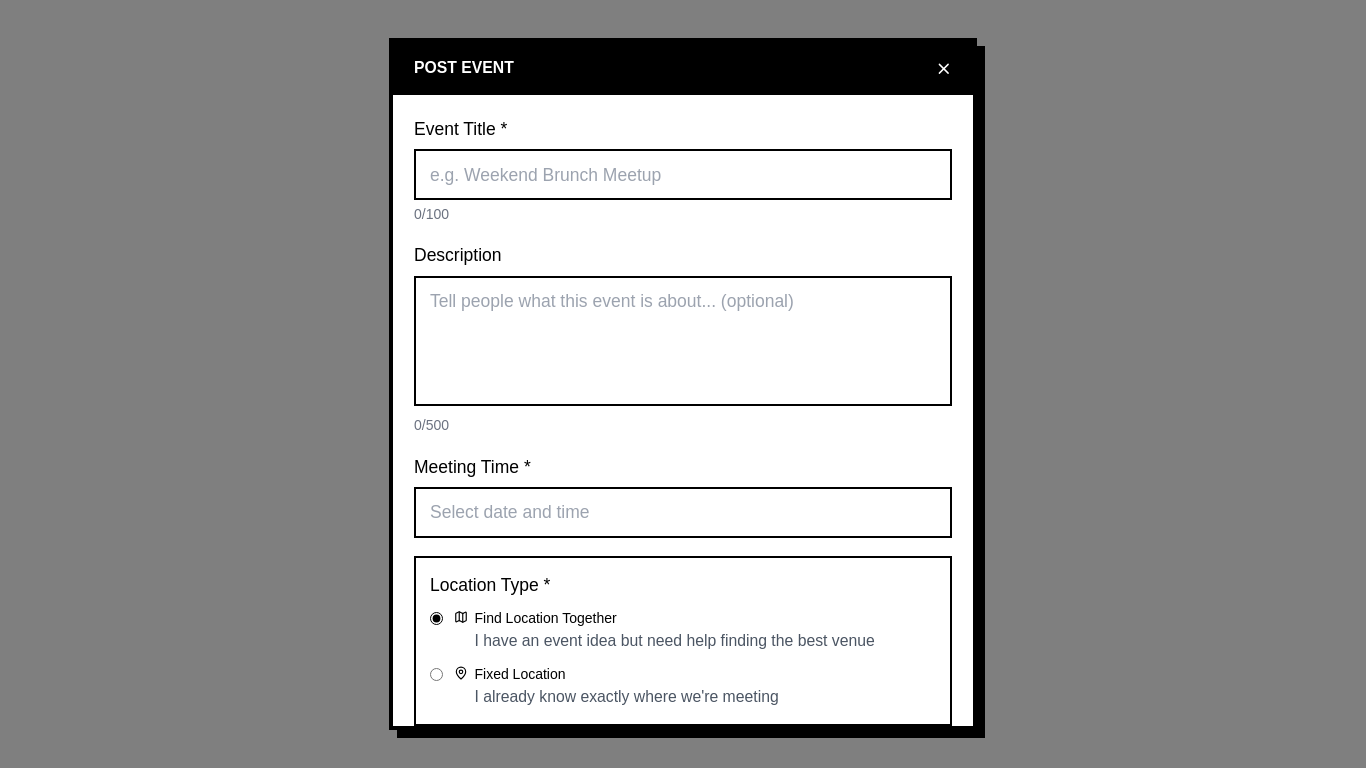
Test: PostEventModal › Form Validation › should disable submit button when meeting time is missing
The image size is (1366, 768).
Type "Test Event" into the field with placeholder "e.g. Weekend Brunch Meetup".
click(683, 175); type("Test Event")  # box [414,149,952,200]
(page scrolled)
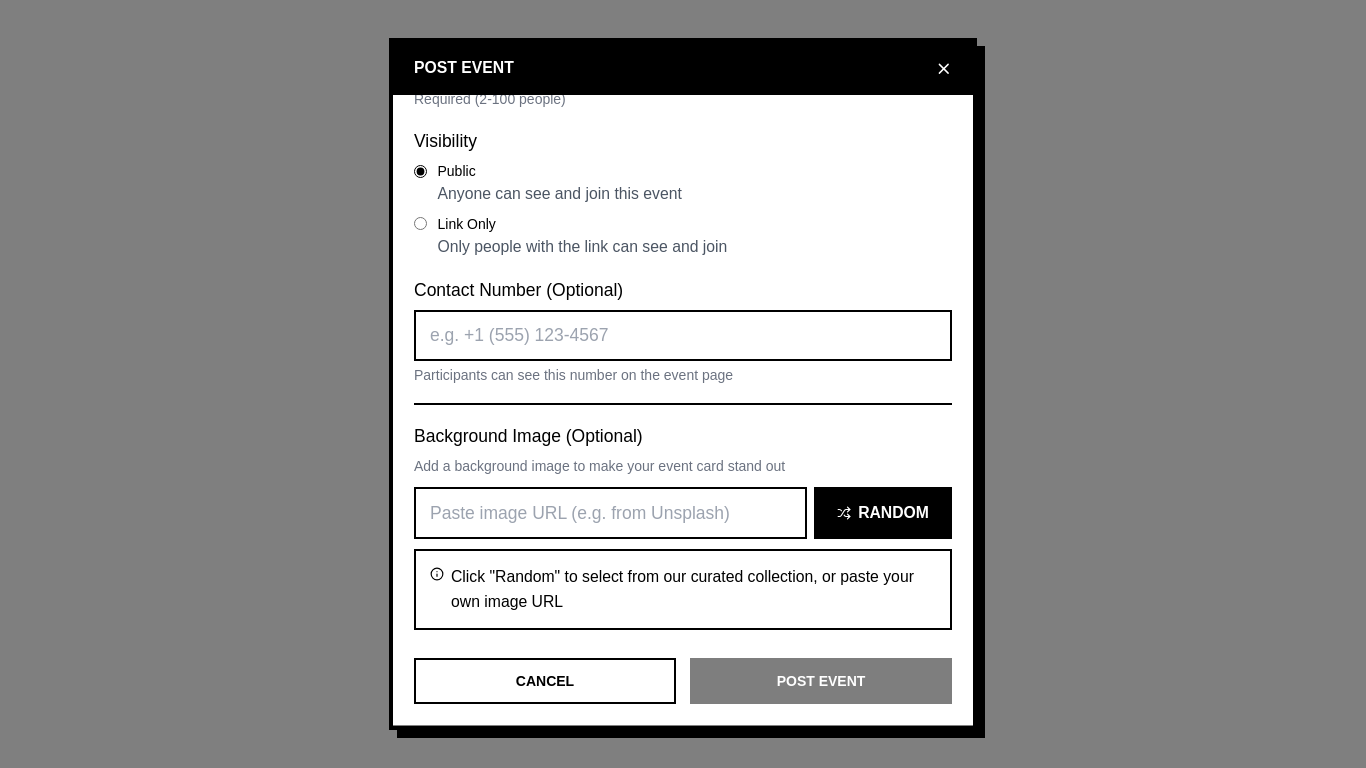
Result: the button "Post Event" is disabled at [690,658,952,704]
